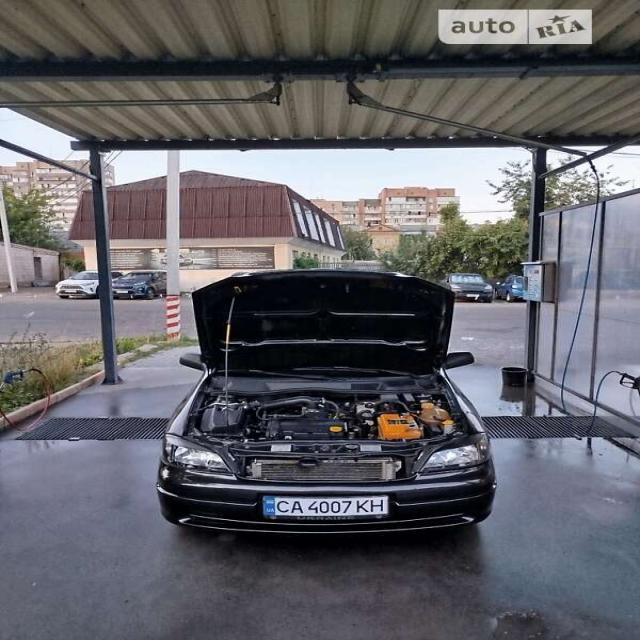plate: (250, 488, 395, 520)
